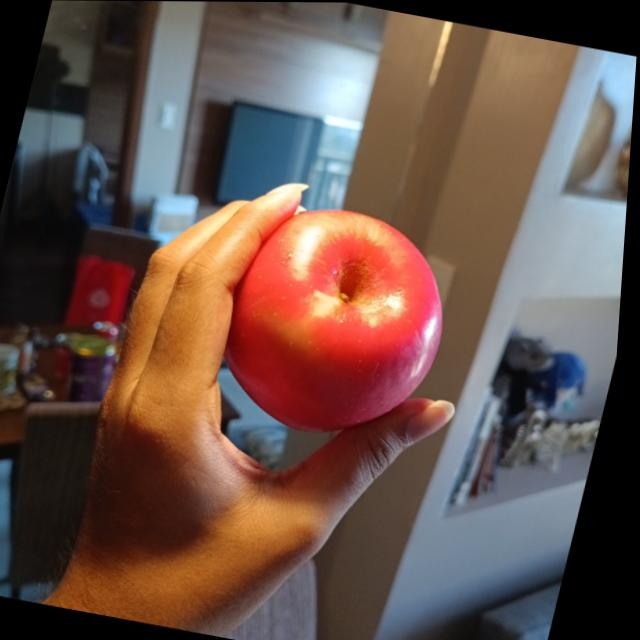apple: (211, 193, 472, 448)
